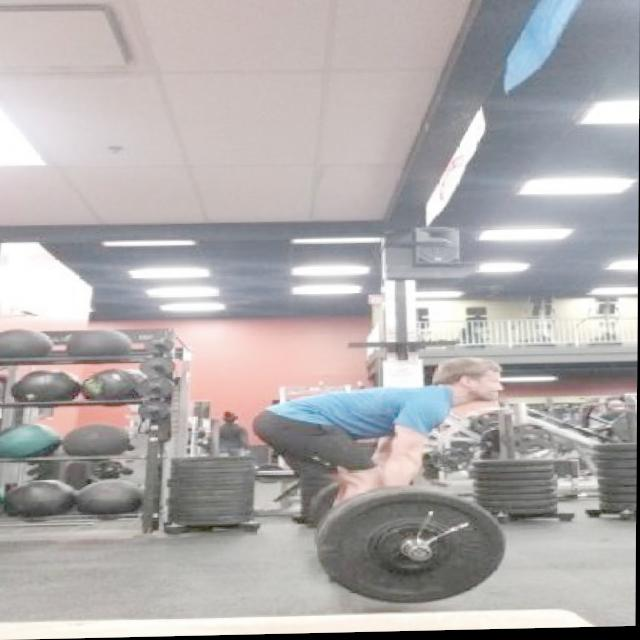barbell: (312, 482, 513, 621)
